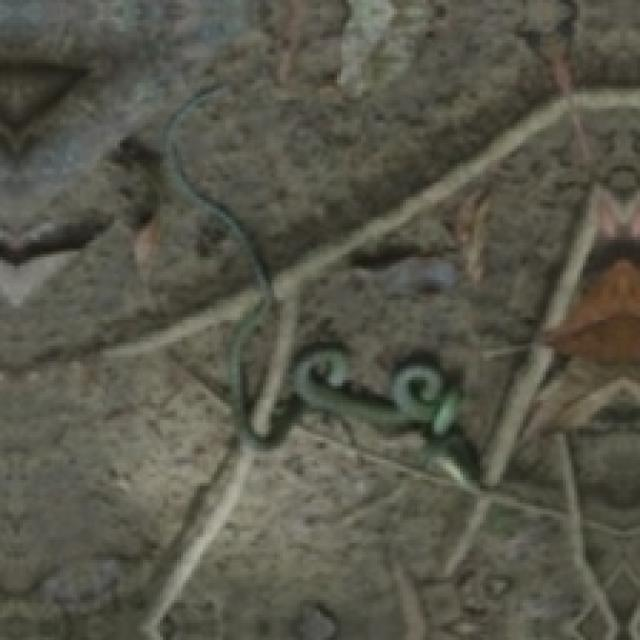paradise tree snake: (165, 85, 478, 489)
